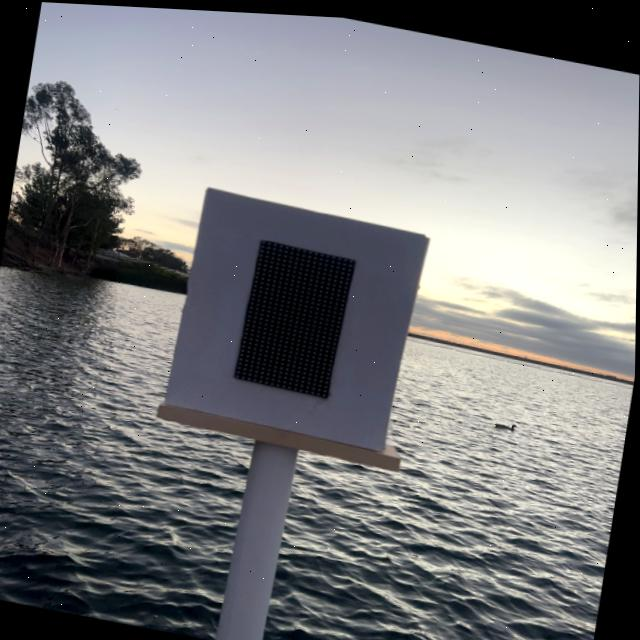led: (194, 197, 385, 432)
